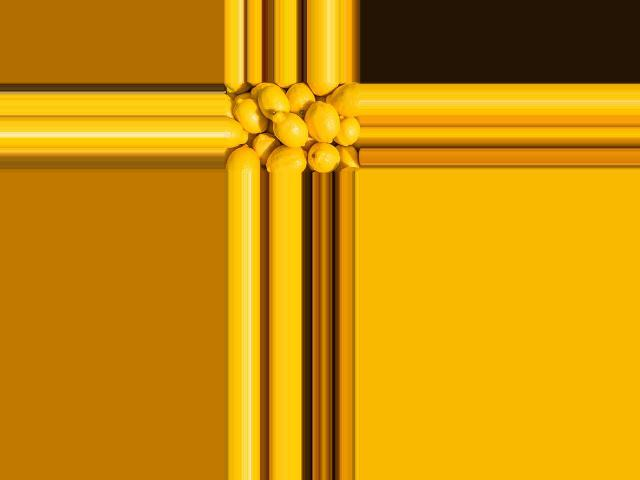lemon: (254, 83, 287, 118)
